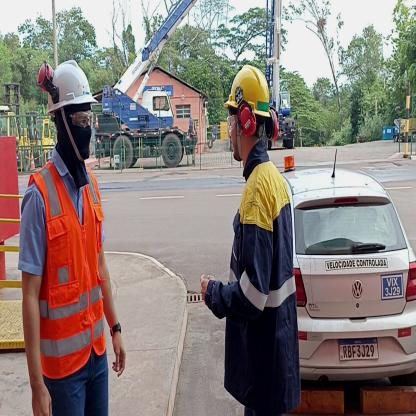Balaclava: (54, 106, 91, 180)
C_eletrica: (224, 171, 300, 406)
Capacete: (36, 54, 99, 107), (224, 62, 274, 115)
colete: (39, 173, 106, 363)
